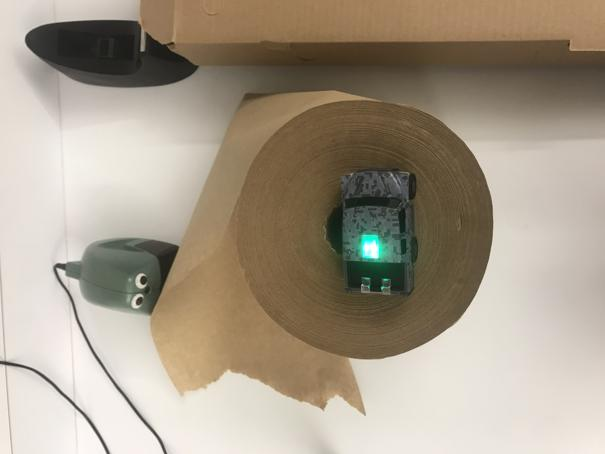MXT: (343, 169, 419, 297)
